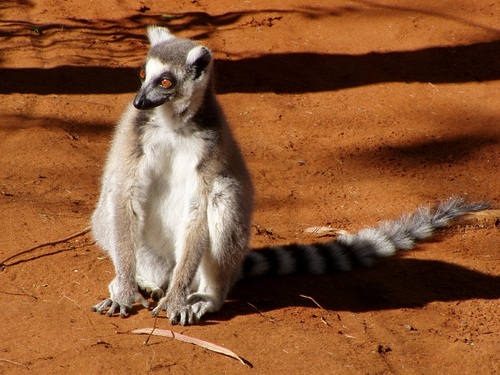cat: (78, 29, 483, 319)
